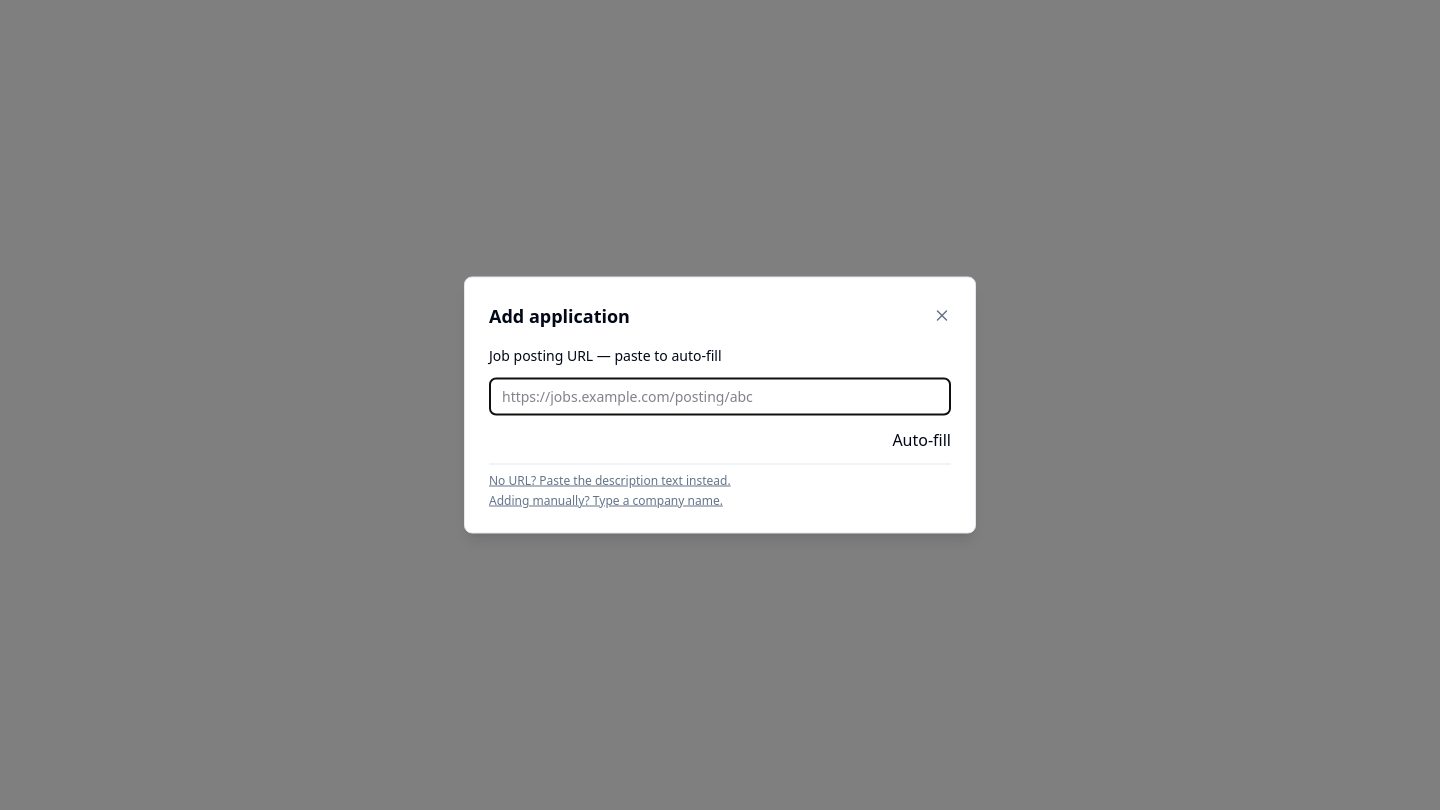
Test: AddApplicationDialog — text-paste path › 'No URL?' link switches to JD-text input mode
The width and height of the screenshot is (1440, 810).
Click the button "No URL? Paste the description text instead." at x=610, y=480, box [489,472,731,488]
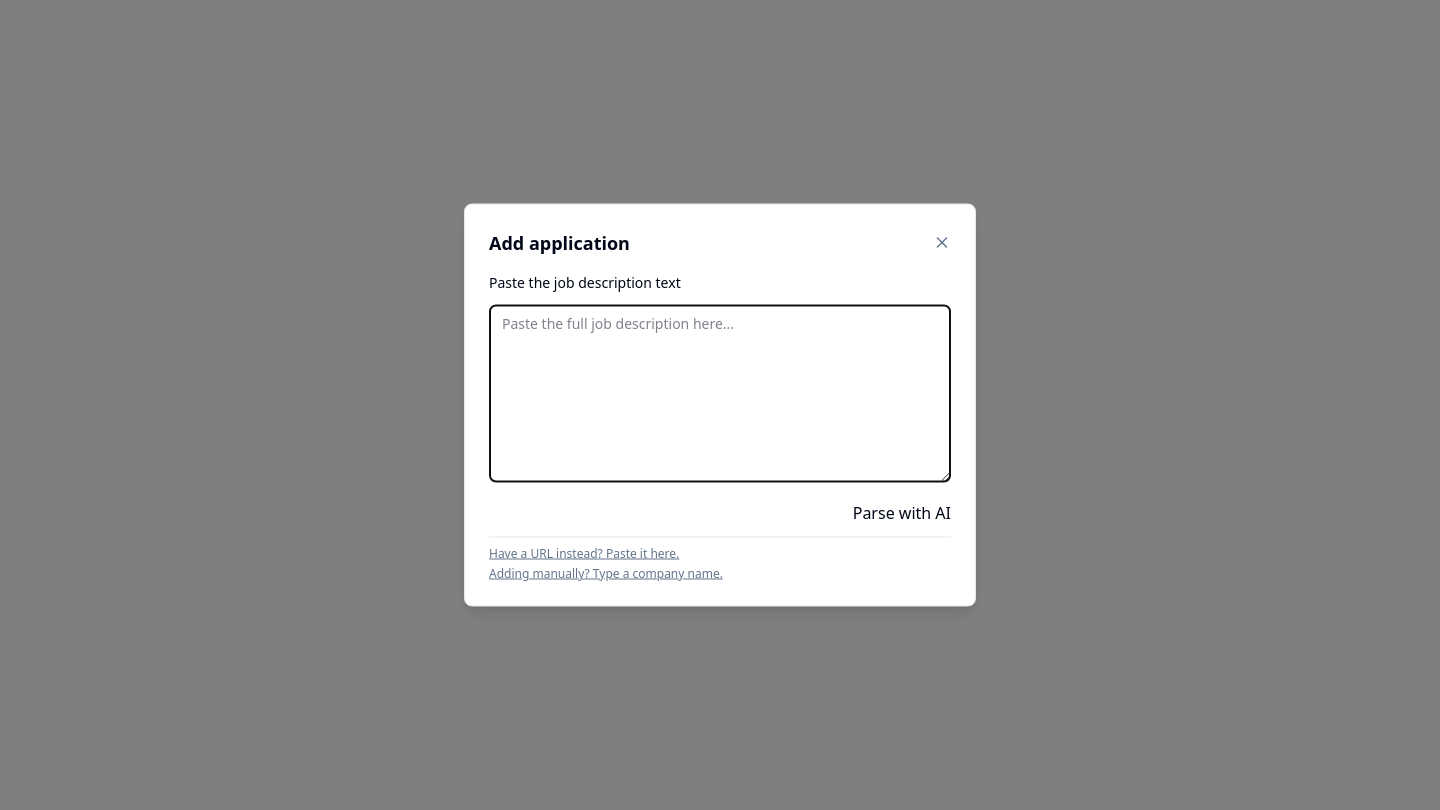
Expected: the text box labelled "Paste the job description text" is shown, [489,304,951,482]
Expected: the label labelled "Job posting URL" is gone
